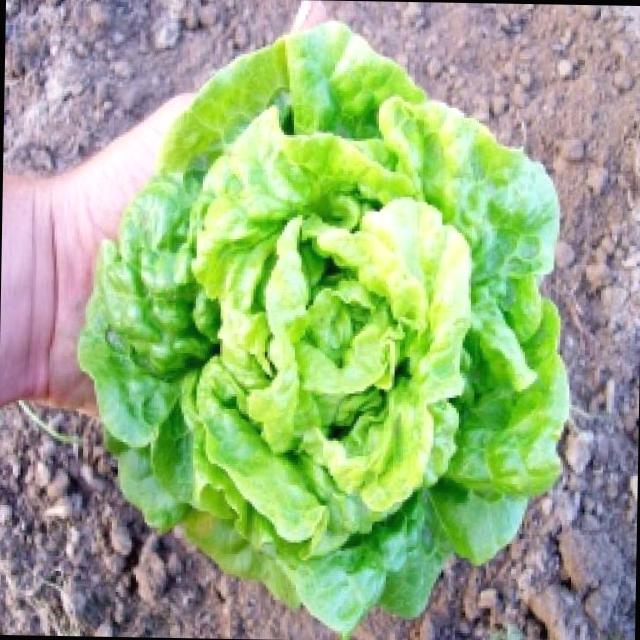Lettuce-Ready-to-Harvest: (79, 23, 569, 634)
